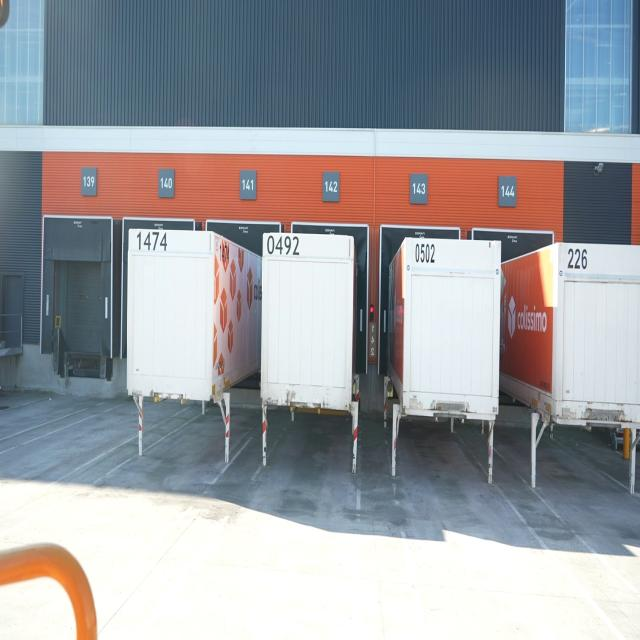Code: (264, 233, 302, 261), (133, 230, 173, 253), (565, 246, 588, 277), (411, 241, 438, 264)
